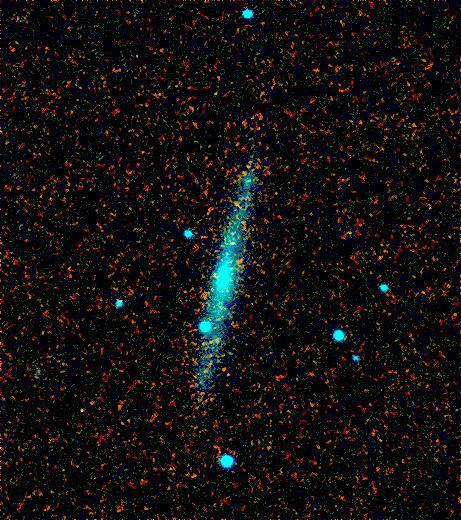star: (68, 392, 98, 422)
